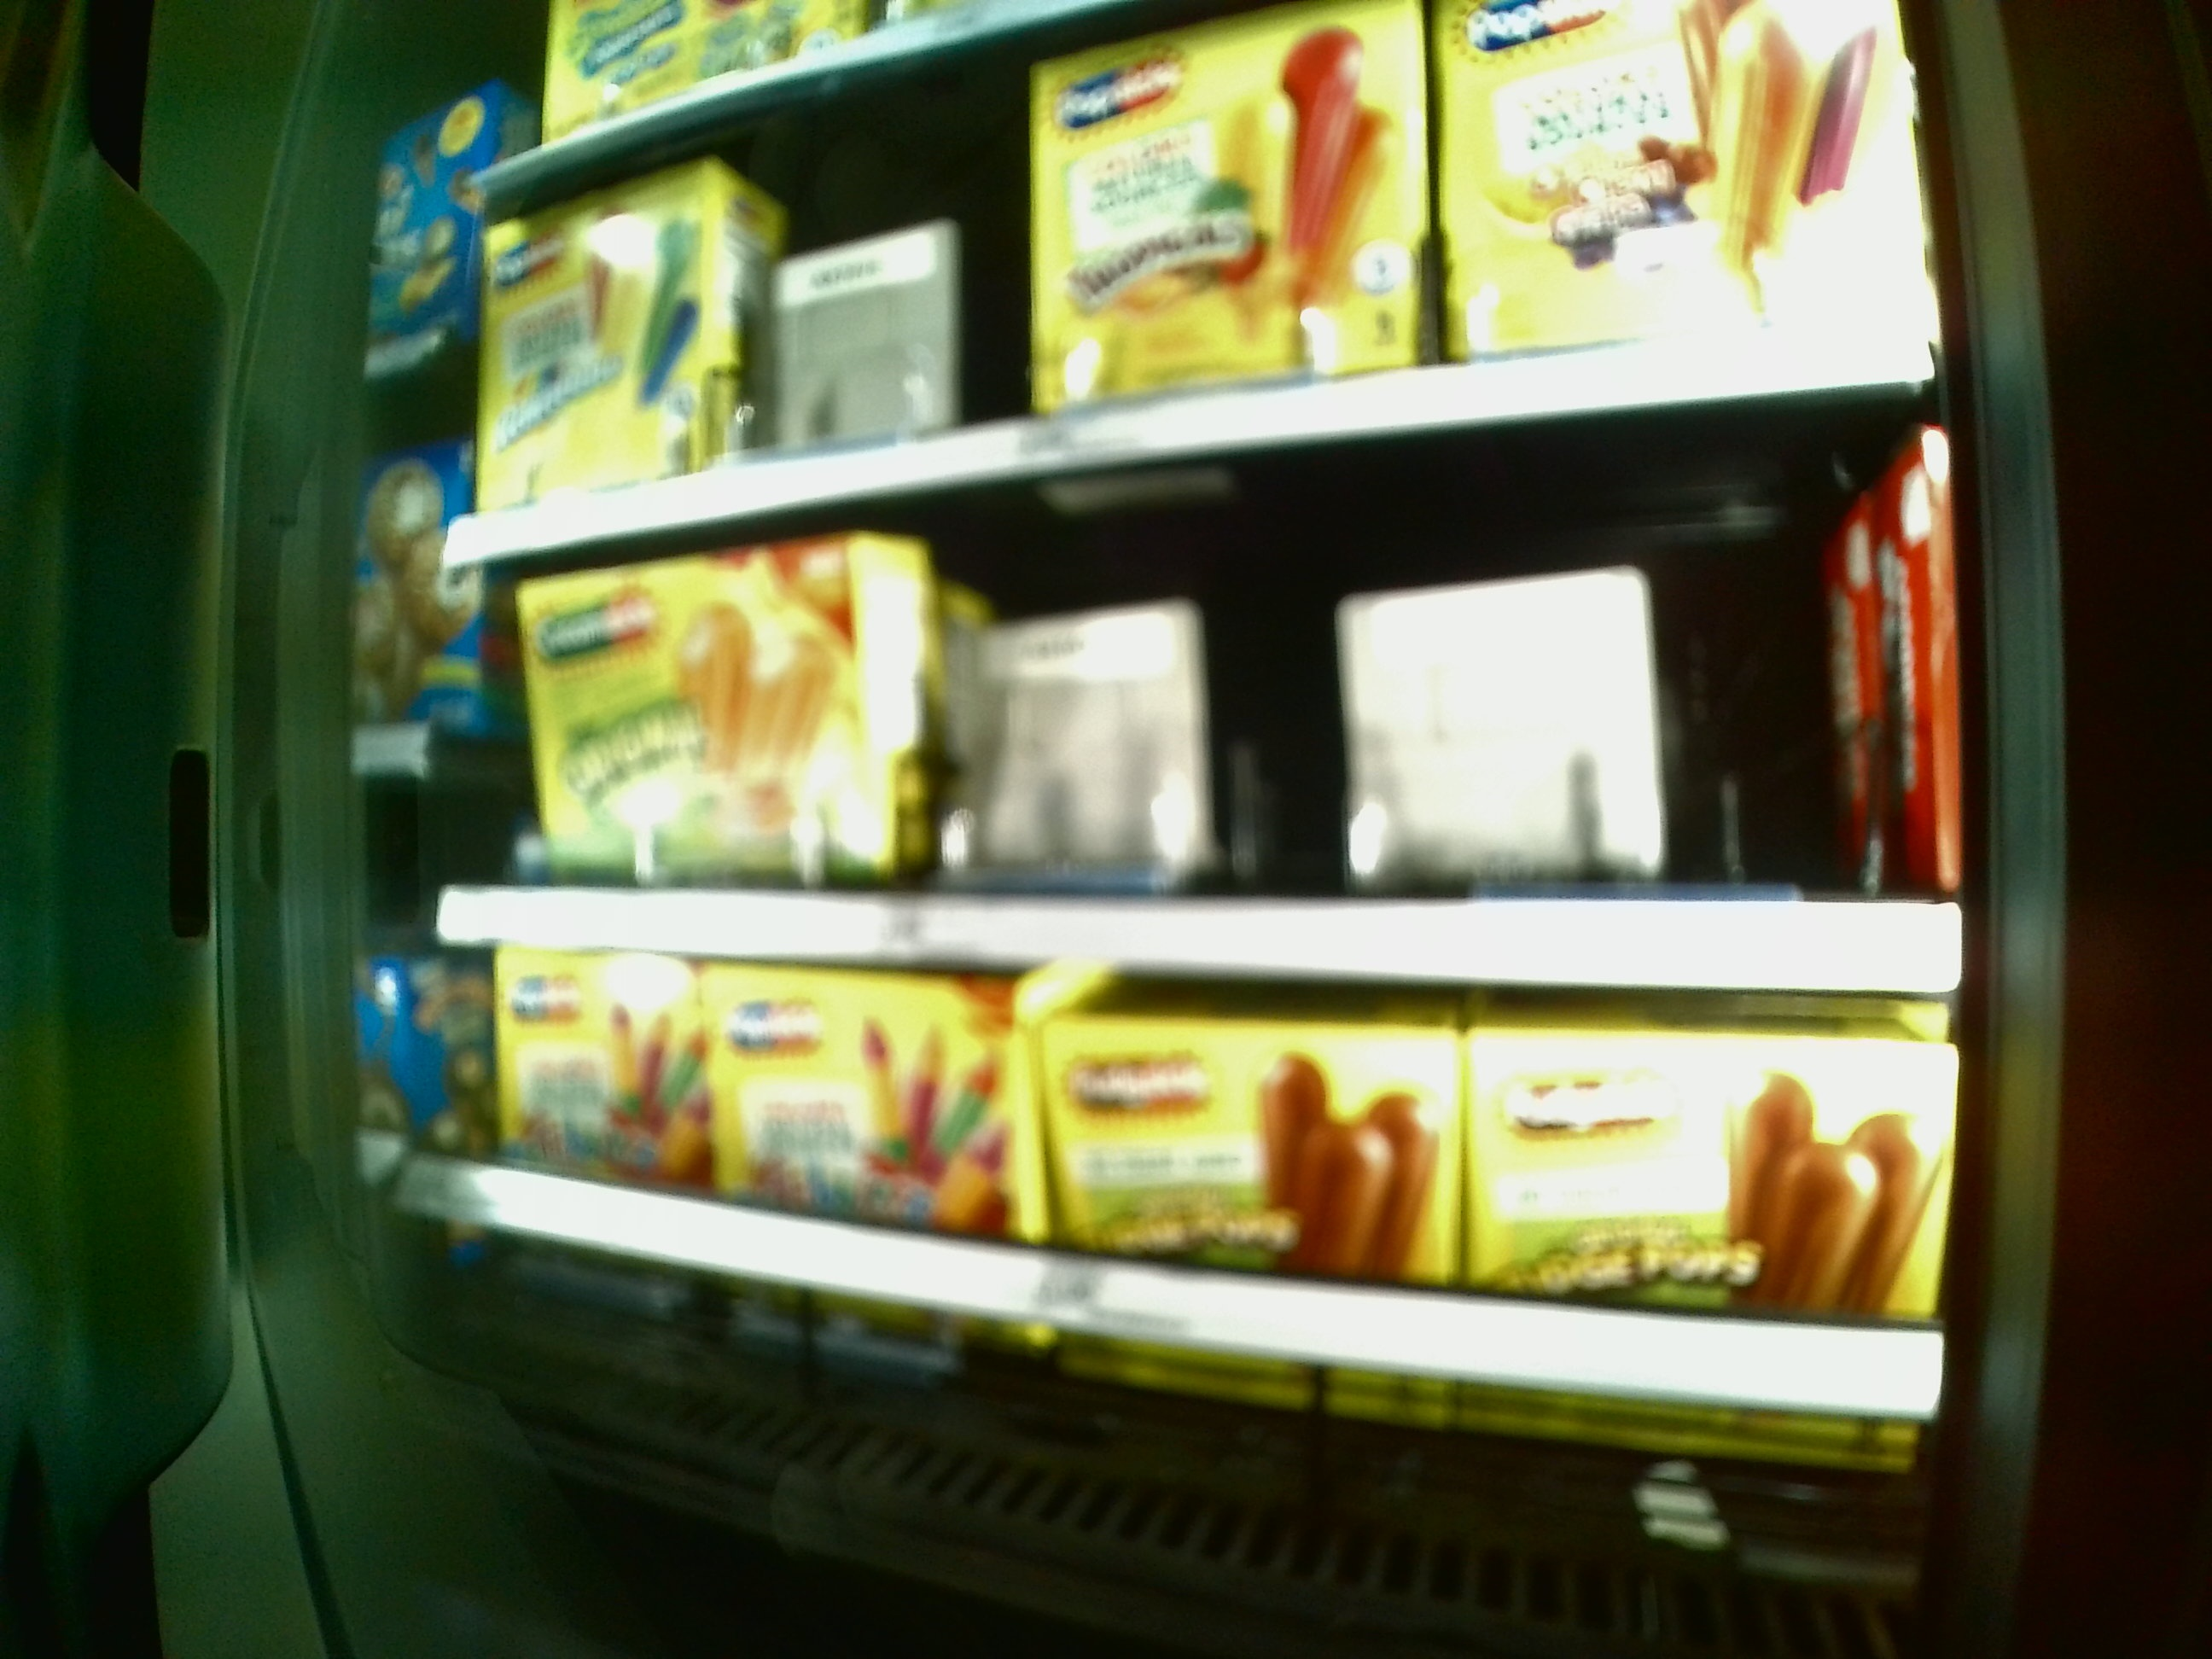shelf: (469, 1009, 1949, 1527), (458, 552, 1975, 986), (472, 75, 1921, 523)
